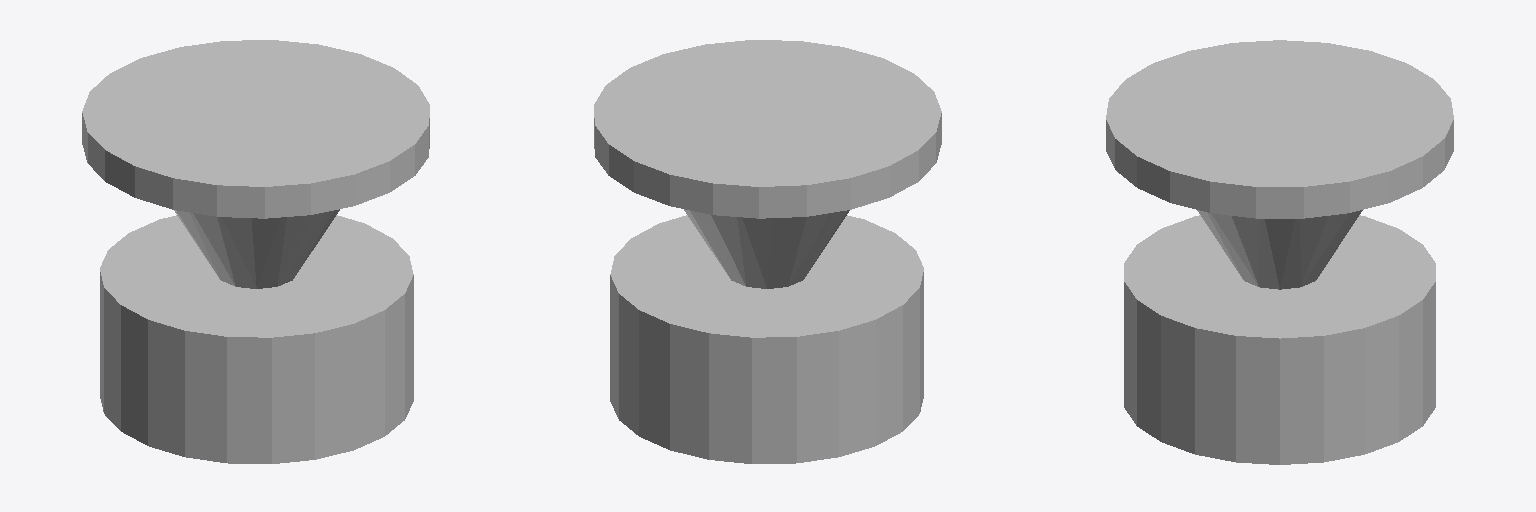
The model's file is RightThumb.obj.
3 views of the same model, side by side, from view 1: azimuth 30°, elevation 25°; view 2: azimuth 150°, elevation 25°; view 3: azimuth 270°, elevation 25° (orthographic).
Parts seen in each view (by area): view 1: RightThumb; view 2: RightThumb; view 3: RightThumb.
Part boxes in pixels (bbox=[...]): RightThumb: bbox=[82, 40, 429, 463]; RightThumb: bbox=[594, 40, 941, 463]; RightThumb: bbox=[1106, 40, 1453, 464].
Size of the model in its own units: 9.95 by 9 by 9.98.